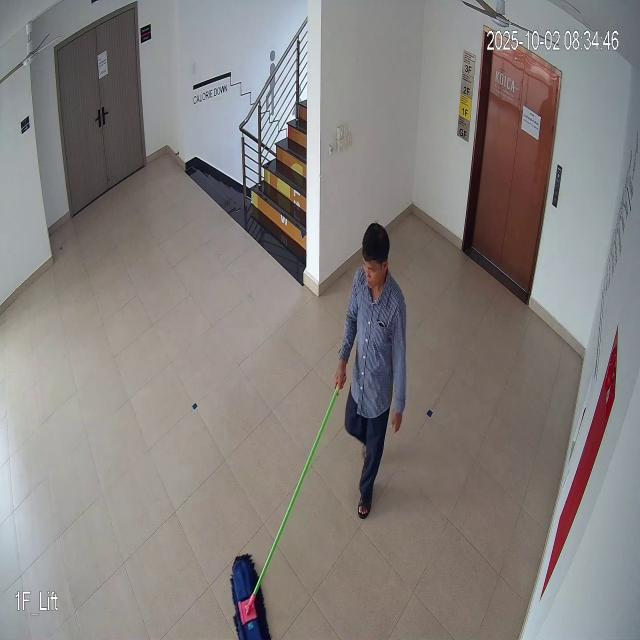face: (358, 219, 392, 303)
